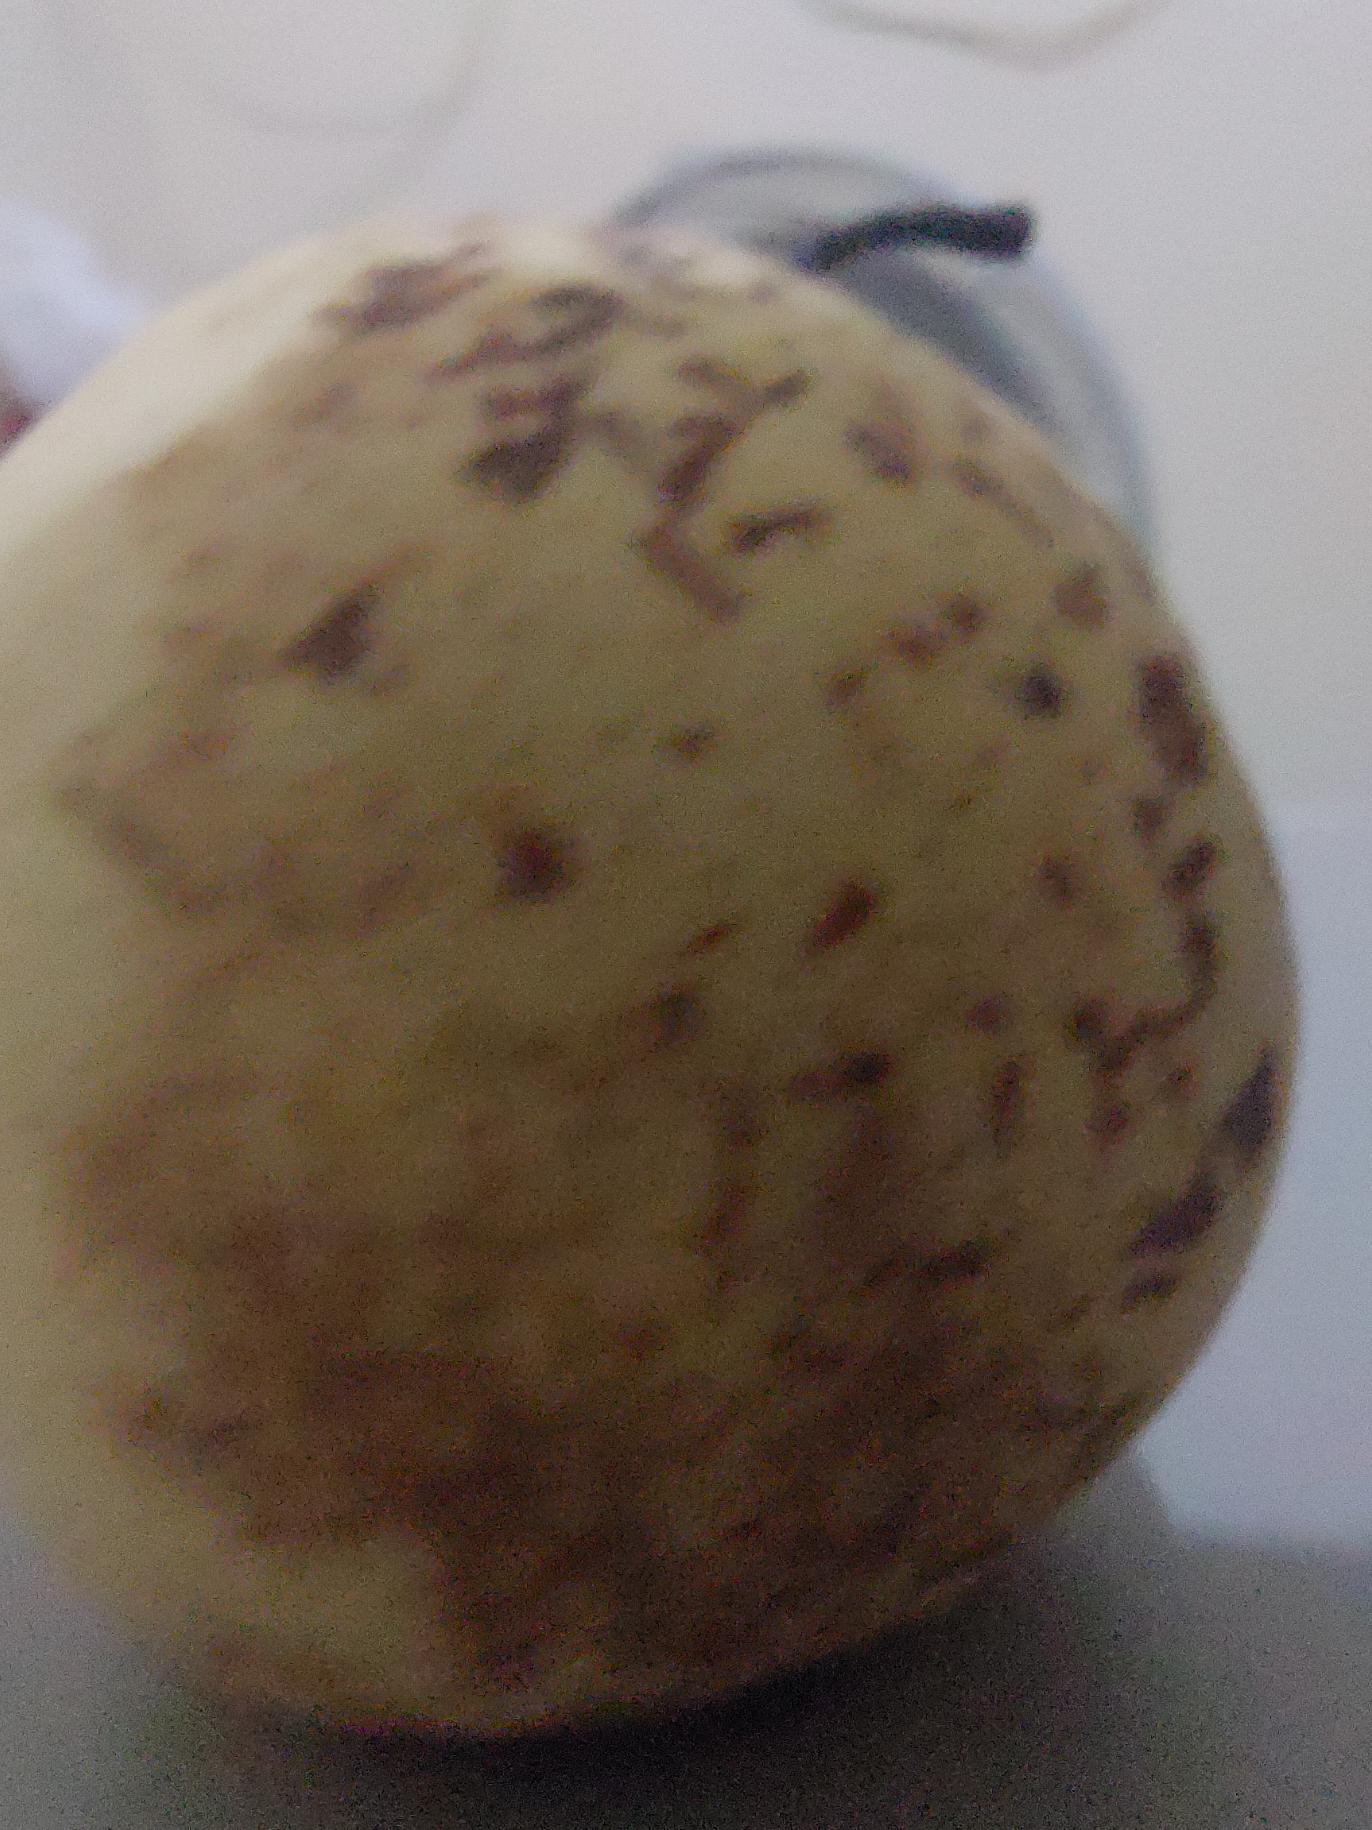Bad Pear: (0, 184, 1372, 1745)
